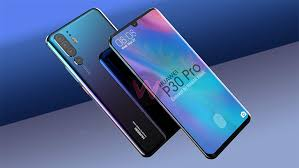huawei: (103, 4, 250, 159)
